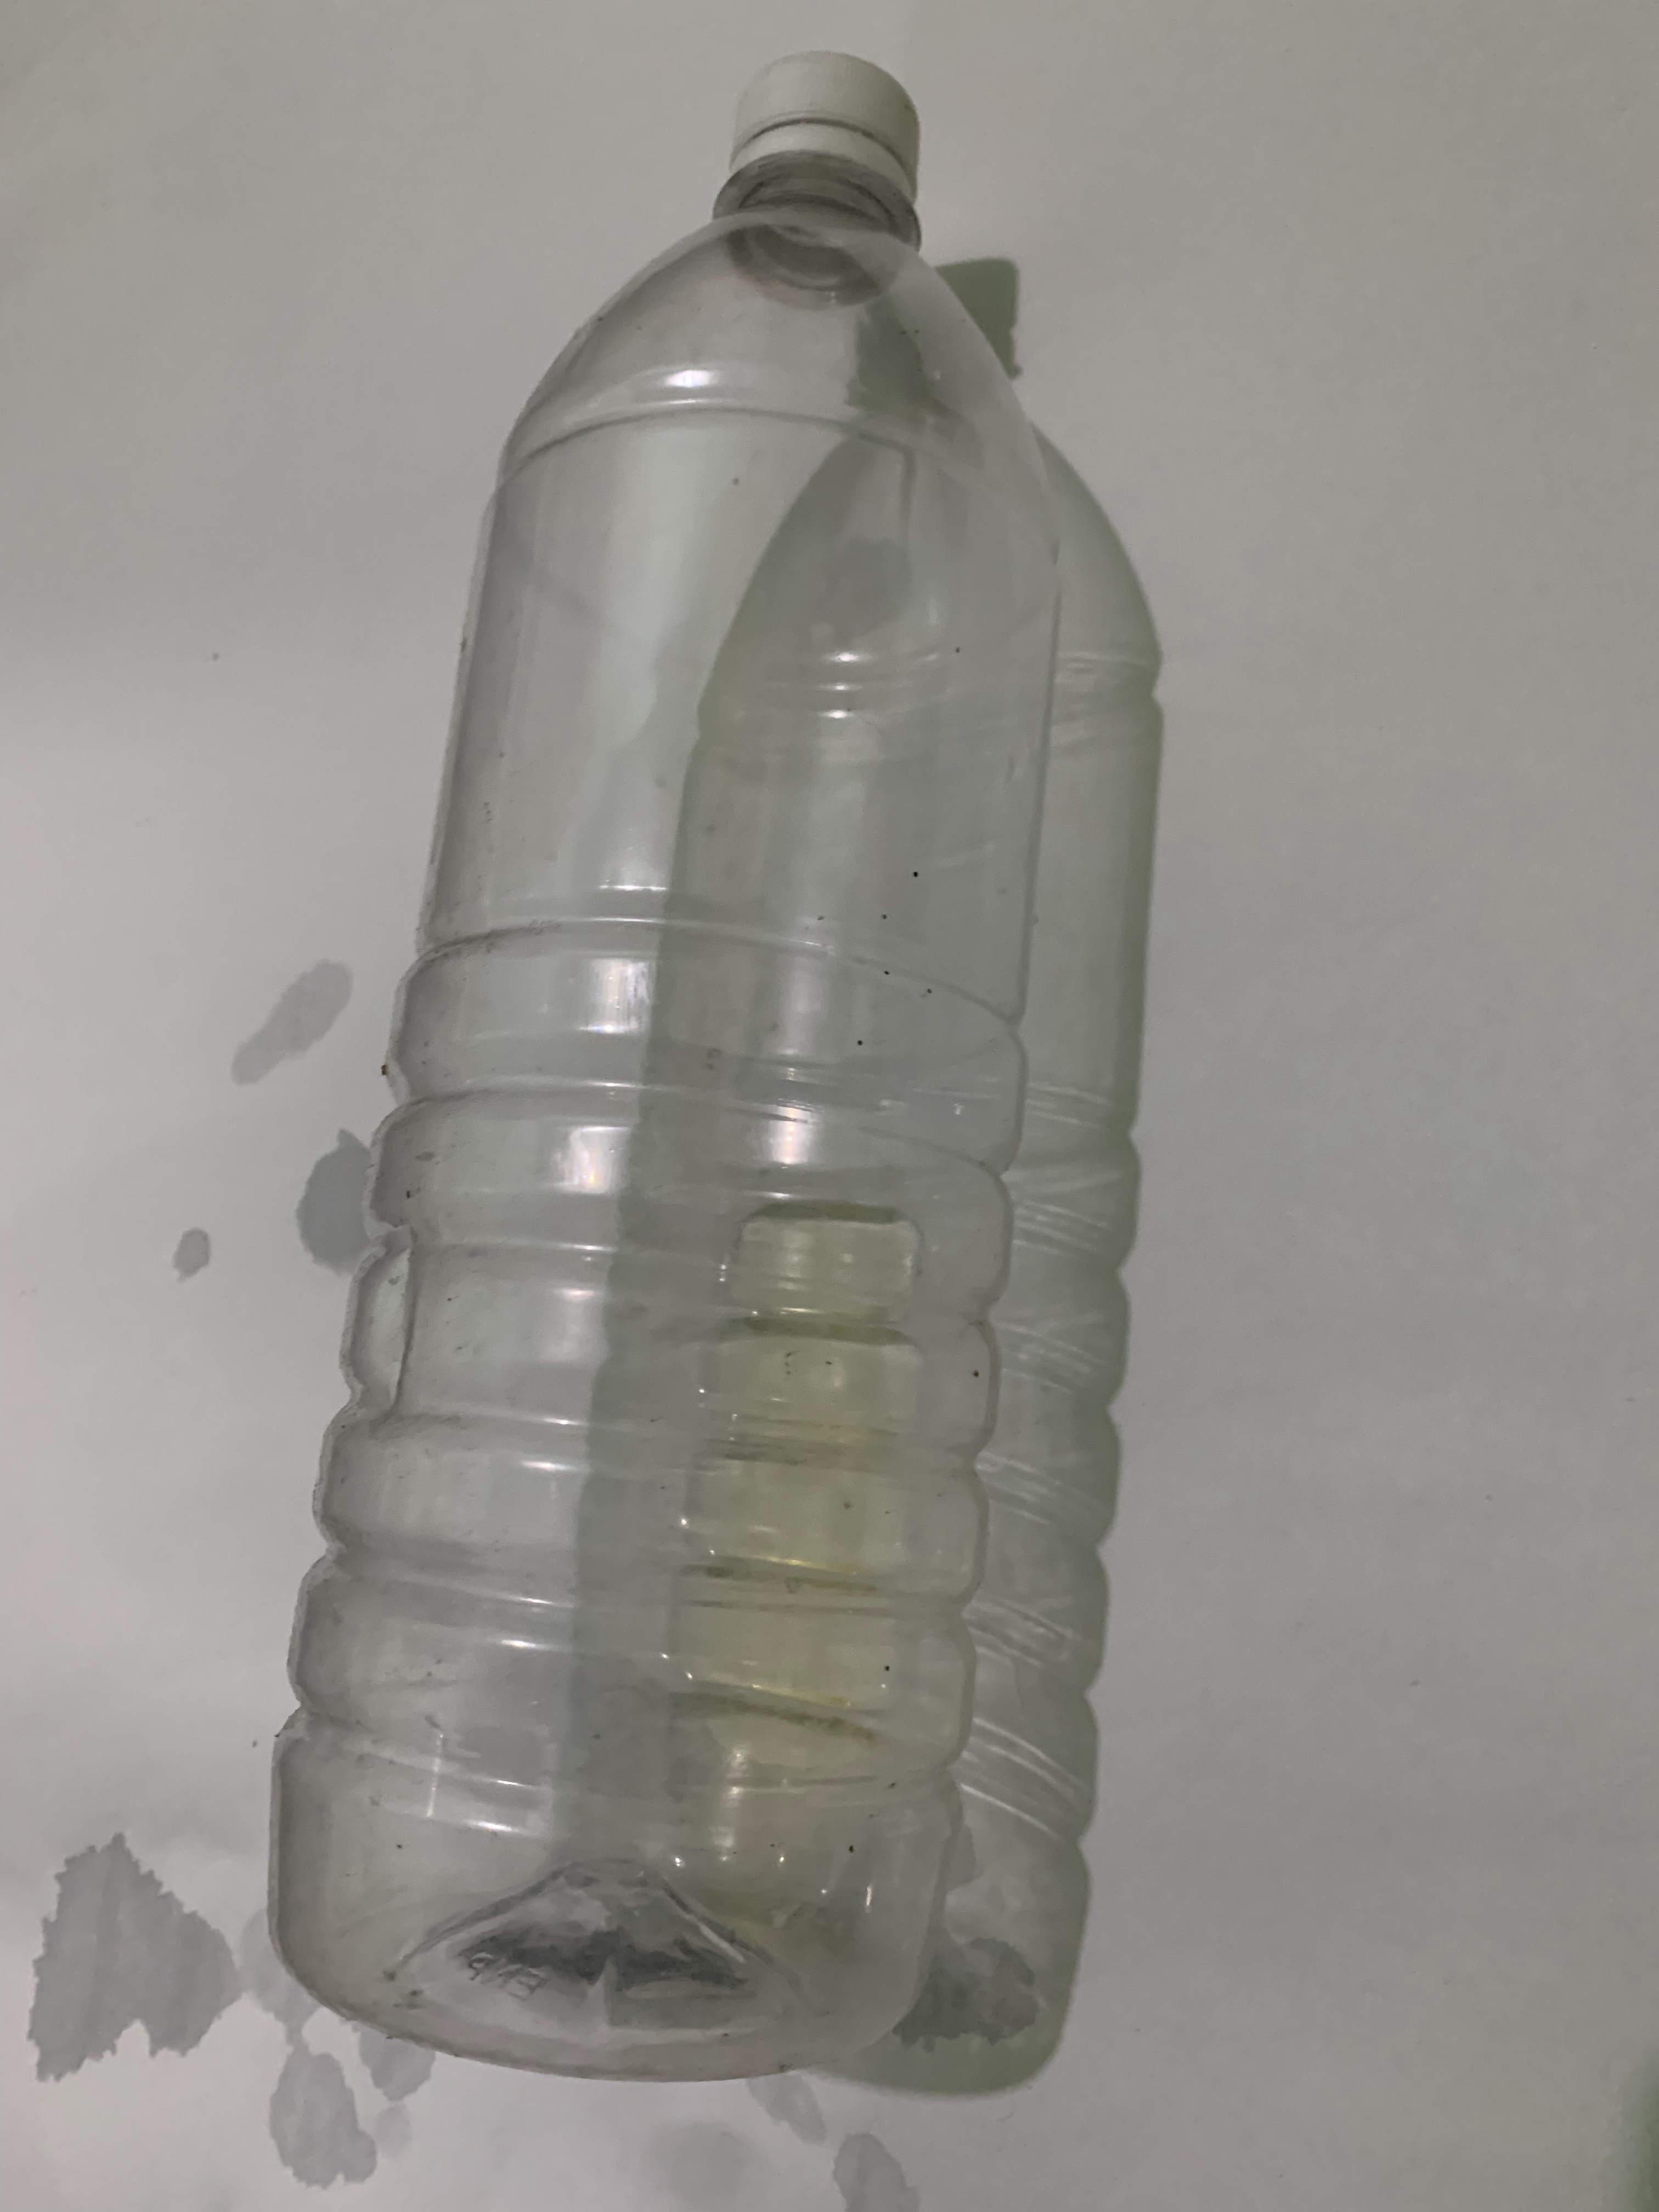bottle: (258, 33, 1070, 2090)
